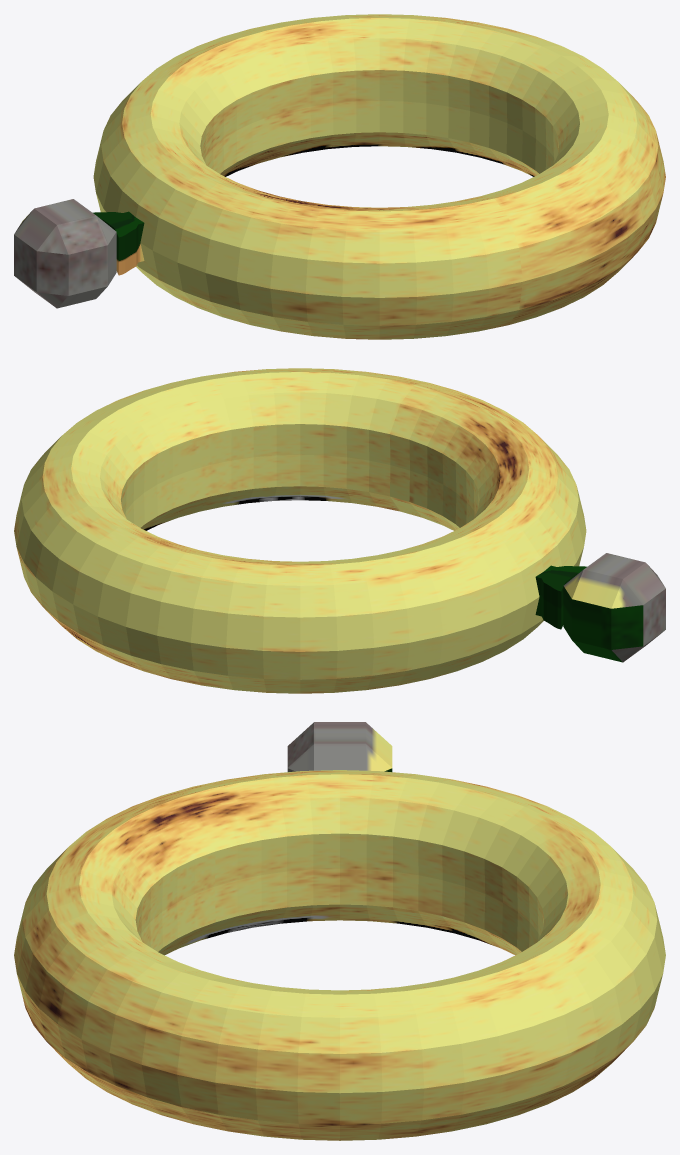
File: anillo.obj
3 renders of one model, top to bottom at view 1: azimuth 30°, elevation 25°; view 2: azimuth 150°, elevation 25°; view 3: azimuth 270°, elevation 25°, orthographic. The views are drawn at different scales.
Visible parts, largest first — view 1: Torus, Cube.001_Cube.002, Cube_Cube.001; view 2: Torus, Cube.001_Cube.002, Cube_Cube.001; view 3: Torus, Cube.001_Cube.002.
Part boxes in pixels (x1=…): Torus: x1=93, y1=14, x2=665, y2=339; Cube.001_Cube.002: x1=14, y1=199, x2=116, y2=308; Cube_Cube.001: x1=93, y1=211, x2=144, y2=275; Torus: x1=14, y1=368, x2=586, y2=693; Cube.001_Cube.002: x1=563, y1=553, x2=665, y2=662; Cube_Cube.001: x1=535, y1=565, x2=586, y2=629; Torus: x1=14, y1=770, x2=665, y2=1140; Cube.001_Cube.002: x1=287, y1=722, x2=392, y2=771.
Bounding box in the file's own units: 0.0972 × 0.0192 × 0.0801.
Materials: 1 (1 with a texture image).
